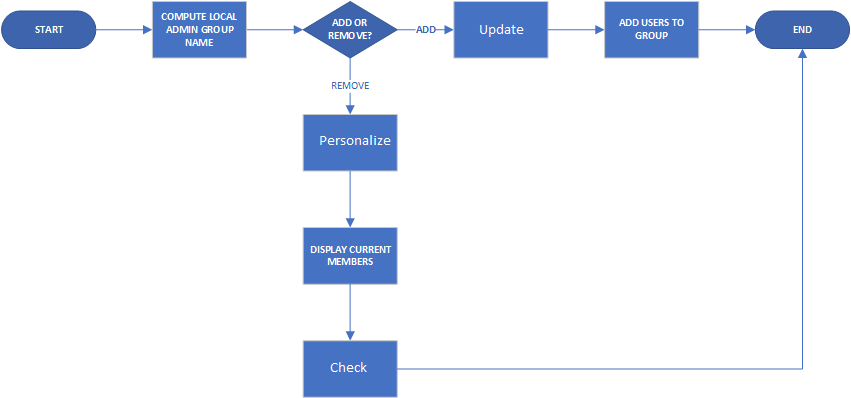arrow: (396, 46, 810, 373), (343, 281, 356, 343), (545, 24, 606, 37), (345, 55, 357, 115), (697, 24, 756, 36), (95, 22, 151, 34), (344, 170, 356, 226), (245, 25, 304, 36), (393, 24, 453, 33)
decision: (302, 1, 398, 58)
process: (301, 226, 401, 287), (452, 1, 552, 61), (301, 338, 401, 398), (301, 112, 398, 173), (603, 1, 701, 60), (150, 2, 249, 60)
terminator: (1, 8, 98, 52), (752, 8, 851, 51)
text: (158, 10, 240, 48), (306, 243, 394, 266), (616, 16, 690, 41), (326, 16, 376, 43), (316, 133, 393, 147), (478, 22, 529, 37), (329, 359, 369, 374), (328, 79, 372, 91), (34, 23, 65, 36), (790, 21, 814, 36), (412, 21, 436, 34)
